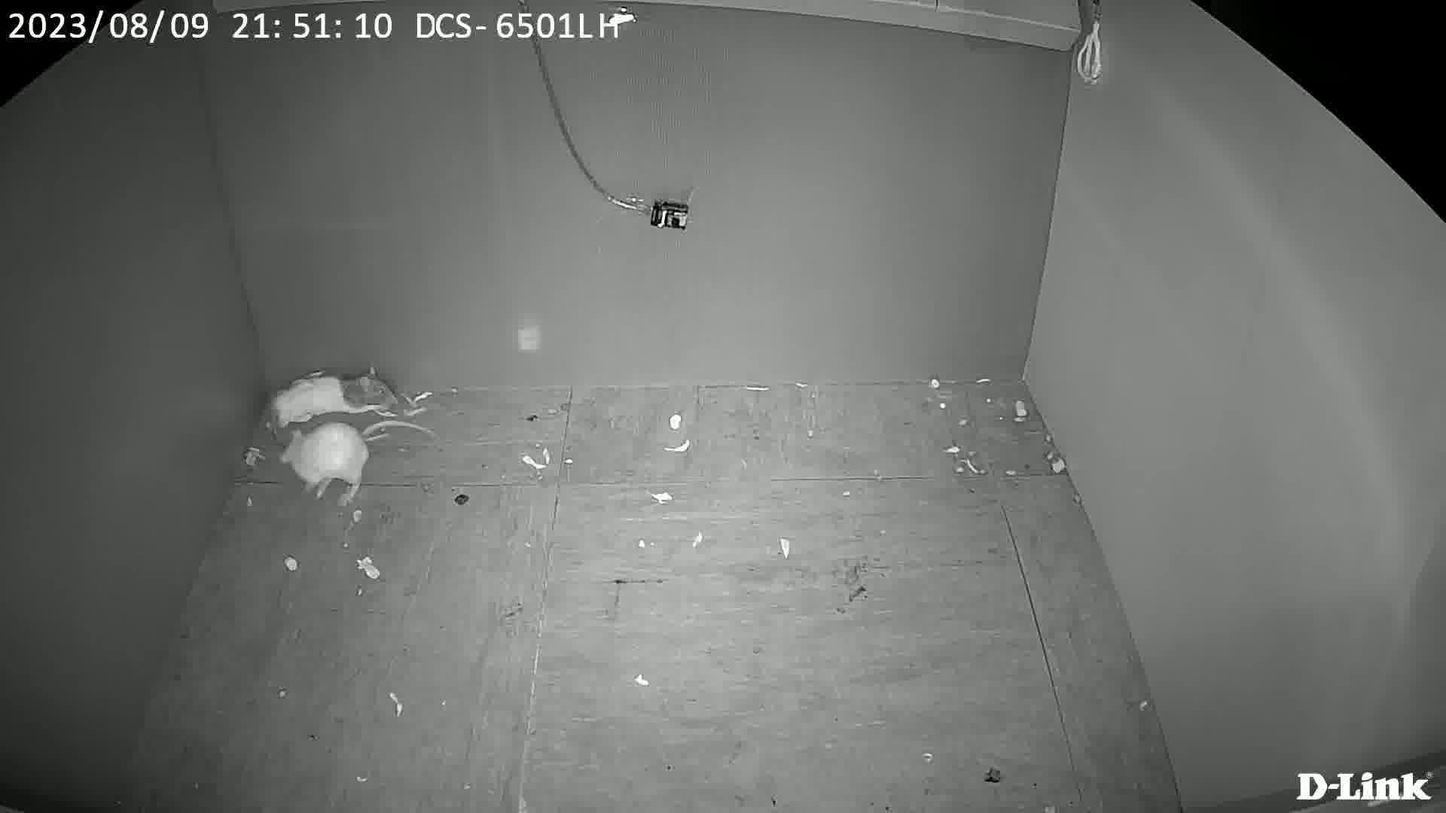rat: (271, 414, 400, 514), (249, 365, 408, 417)
